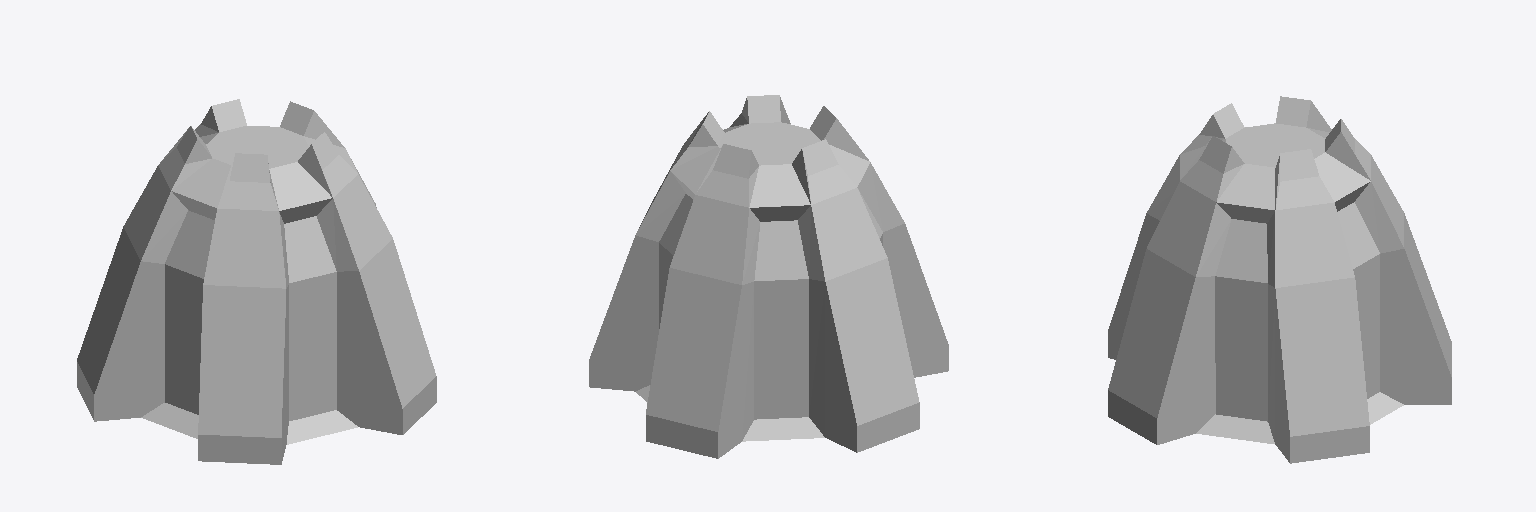
3 renders of one model, left to right at view 1: azimuth 30°, elevation 25°; view 2: azimuth 150°, elevation 25°; view 3: azimuth 270°, elevation 25°, orthographic.
Parts seen in each view (by area): view 1: cylinder1_sep3; view 2: cylinder1_sep3; view 3: cylinder1_sep3.
Part boxes in pixels (bbox=[...]): cylinder1_sep3: bbox=[77, 99, 436, 464]; cylinder1_sep3: bbox=[589, 95, 948, 458]; cylinder1_sep3: bbox=[1108, 96, 1451, 463].
Bounding box in the file's own units: 5.41 × 4.33 × 5.14.